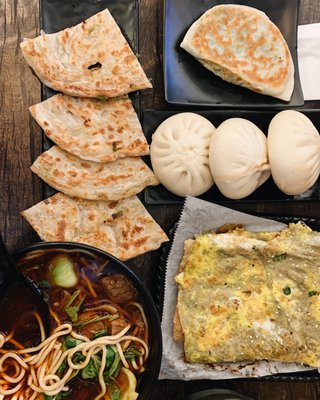sushi: (0, 241, 161, 400)
